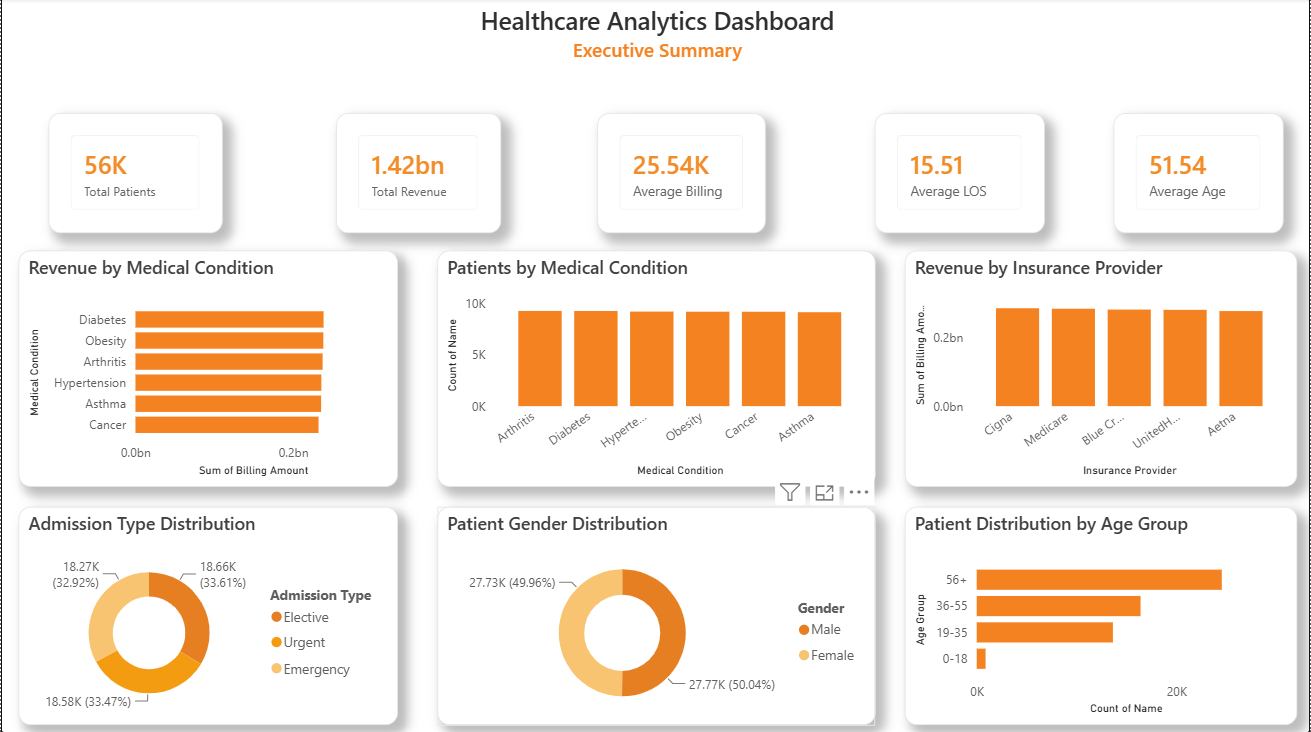

This screenshot's page, from the dashboard's own definition file:
{"tool":"powerbi","page":{"name":"Executive_dashboard","canvas":[1280,720],"ordinal":0},"visuals":[{"type":"cardVisual","fields":{"Data":["healthcare_dataset.Total Patients"]},"box":[46.2,112.5,170,117.5],"z":0},{"type":"cardVisual","fields":{"Data":["healthcare_dataset.Average LOS"]},"box":[855,112.5,166.2,117.5],"z":1000},{"type":"cardVisual","fields":{"Data":["healthcare_dataset.Average Billing"]},"box":[583.8,112.5,165,117.5],"z":2000},{"type":"cardVisual","fields":{"Data":["healthcare_dataset.Total Revenue"]},"box":[327.5,112.5,161.2,117.5],"z":3000},{"type":"clusteredBarChart","title":"Revenue by Medical Condition","fields":{"Category":["healthcare_dataset.Medical Condition"],"Y":["Sum(healthcare_dataset.Billing Amount)"]},"box":[17.5,247.5,371.2,231.2],"z":4000},{"type":"clusteredColumnChart","title":"Patients by Medical Condition","fields":{"Category":["healthcare_dataset.Medical Condition"],"Y":["CountNonNull(healthcare_dataset.Name)"]},"box":[426.2,247.5,428.8,231.2],"z":5000},{"type":"cardVisual","fields":{"Data":["healthcare_dataset.Average Age"]},"box":[1088.8,112.5,166.2,117.5],"z":6000},{"type":"clusteredColumnChart","title":"Revenue by Insurance Provider","fields":{"Category":["healthcare_dataset.Insurance Provider"],"Y":["Sum(healthcare_dataset.Billing Amount)"]},"box":[883.8,247.5,383.8,231.2],"z":7000},{"type":"donutChart","title":"Admission Type Distribution","fields":{"Category":["healthcare_dataset.Admission Type"],"Y":["CountNonNull(healthcare_dataset.Name)"]},"box":[17.5,497.5,371.2,213.8],"z":8000},{"type":"donutChart","title":"Patient Gender Distribution","fields":{"Category":["healthcare_dataset.Gender"],"Y":["CountNonNull(healthcare_dataset.Name)"]},"box":[426.2,497.5,428.8,213.8],"z":9000},{"type":"clusteredBarChart","title":"Patient Distribution by Age Group","fields":{"Category":["healthcare_dataset.Age Group"],"Y":["CountNonNull(healthcare_dataset.Name)"]},"box":[883.8,497.5,383.8,213.8],"z":10000},{"type":"textbox","box":[46.2,1.2,1191.2,72.5],"z":11000}]}

Visuals, with their boxes in screenshot pixels (x1, y1, x2, y2), scaled from the page's 1280x720 canvas onto the 1311x732 screenshot:
cardVisual - healthcare_dataset.Total Patients: (left=47, top=114, right=221, bottom=234)
cardVisual - healthcare_dataset.Average LOS: (left=876, top=114, right=1046, bottom=234)
cardVisual - healthcare_dataset.Average Billing: (left=598, top=114, right=767, bottom=234)
cardVisual - healthcare_dataset.Total Revenue: (left=335, top=114, right=501, bottom=234)
"Revenue by Medical Condition" clusteredBarChart: (left=18, top=252, right=398, bottom=487)
"Patients by Medical Condition" clusteredColumnChart: (left=437, top=252, right=876, bottom=487)
cardVisual - healthcare_dataset.Average Age: (left=1115, top=114, right=1285, bottom=234)
"Revenue by Insurance Provider" clusteredColumnChart: (left=905, top=252, right=1298, bottom=487)
"Admission Type Distribution" donutChart: (left=18, top=506, right=398, bottom=723)
"Patient Gender Distribution" donutChart: (left=437, top=506, right=876, bottom=723)
"Patient Distribution by Age Group" clusteredBarChart: (left=905, top=506, right=1298, bottom=723)
textbox: (left=47, top=1, right=1267, bottom=75)
